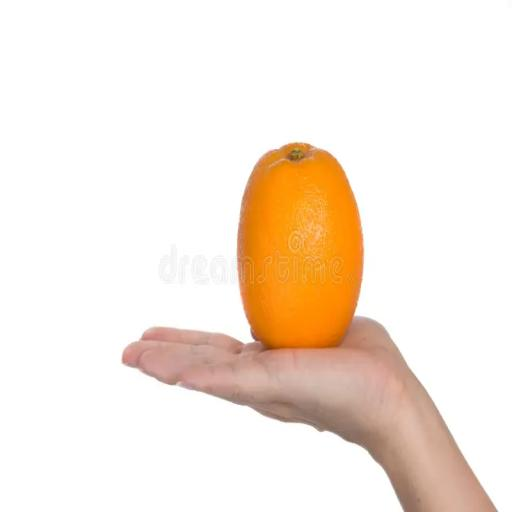orange: (238, 144, 363, 348)
